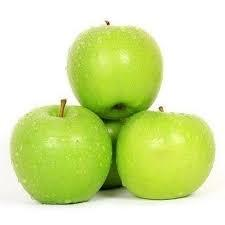non-mango: (8, 98, 112, 204), (65, 19, 163, 120), (115, 106, 215, 200)
